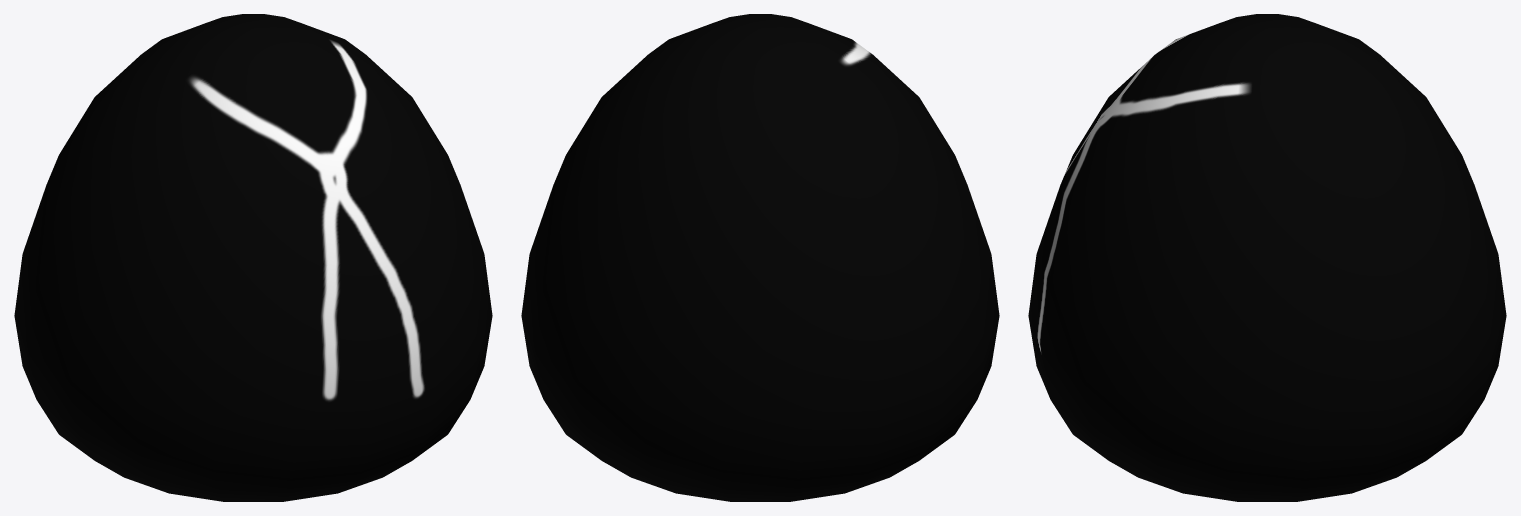
File: body.glb
3 renders of one model, left to right at view 1: azimuth 30°, elevation 25°; view 2: azimuth 150°, elevation 25°; view 3: azimuth 270°, elevation 25°, orthographic.
Visible parts, largest first — view 1: Sphere; view 2: Sphere; view 3: Sphere.
Boxes of the visible parts, x1=… form: Sphere: x1=14, y1=14, x2=492, y2=501; Sphere: x1=521, y1=14, x2=999, y2=501; Sphere: x1=1028, y1=14, x2=1506, y2=501.
Bounding box in the file's own units: 0.9816 × 0.9893 × 0.9967.
1 material, 1 textured.
